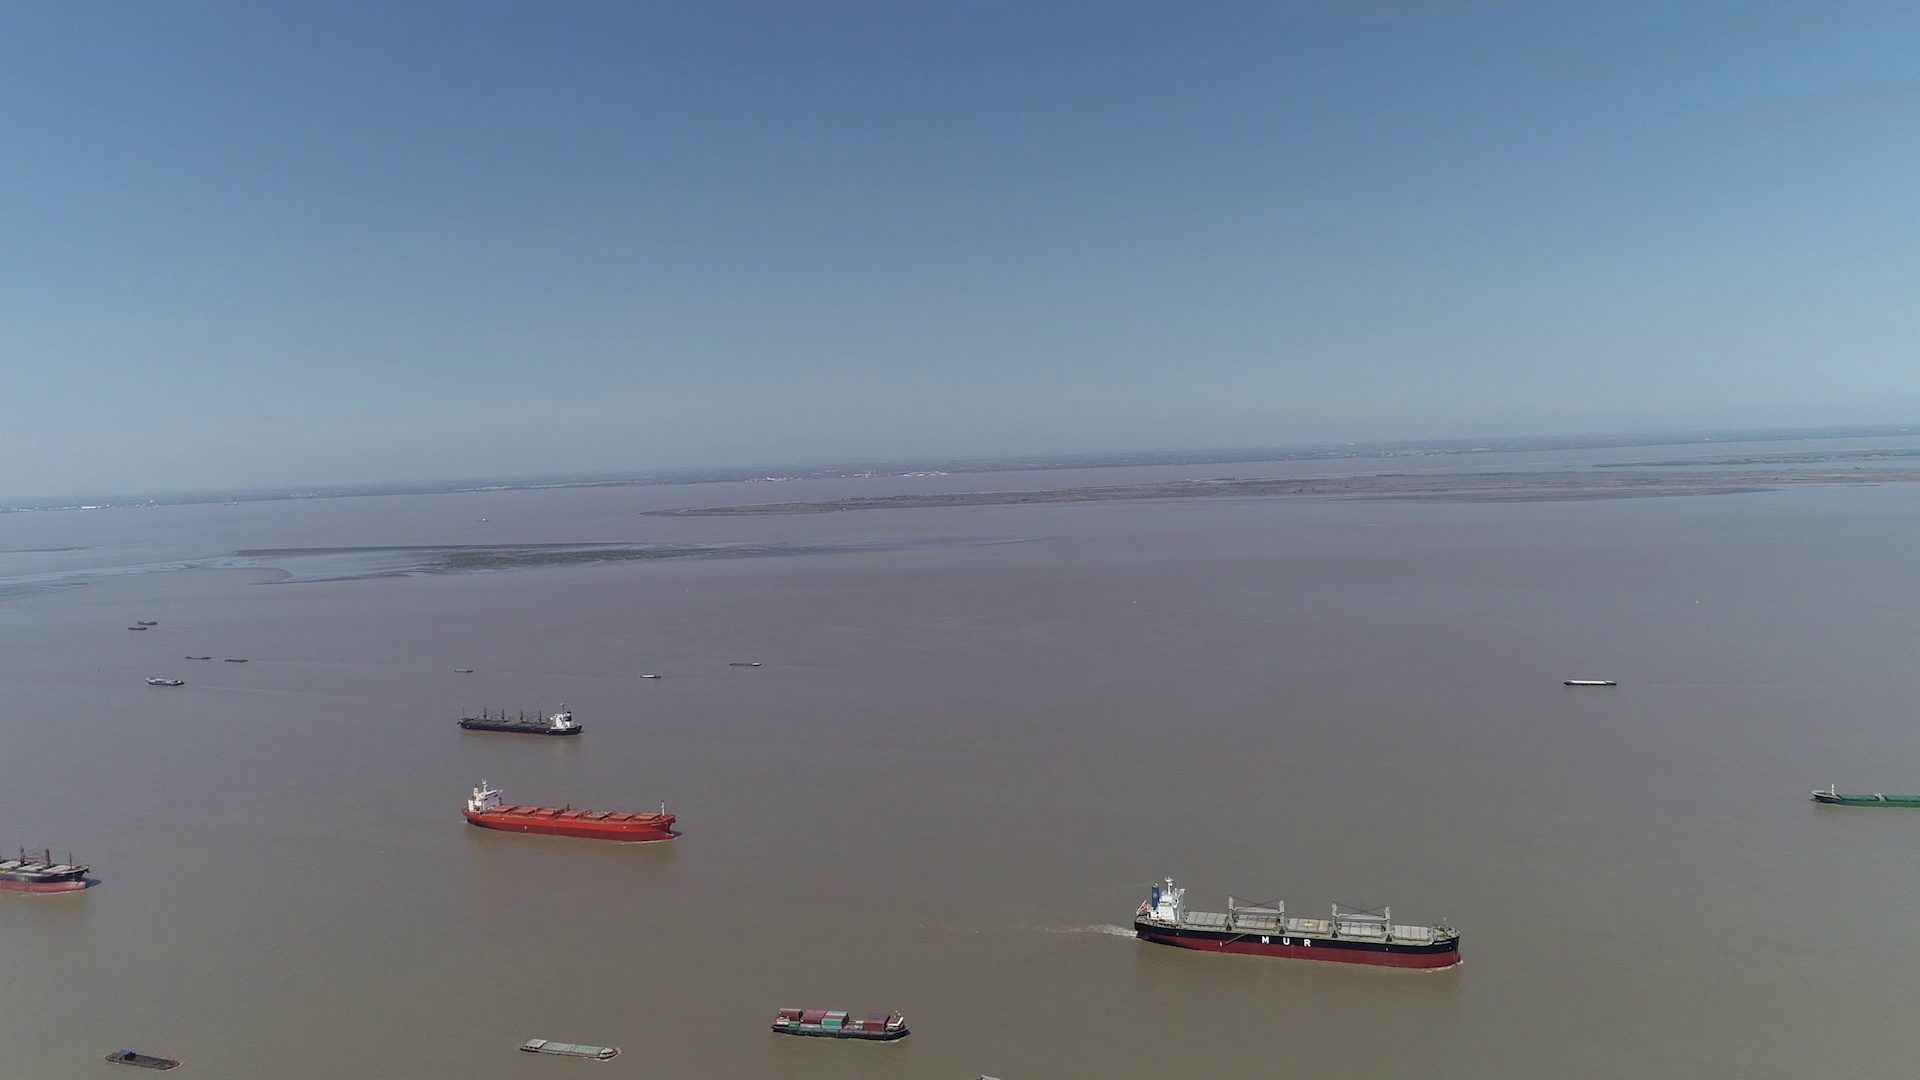ship: (1133, 877, 1462, 971), (465, 779, 679, 843), (0, 836, 92, 895), (773, 1005, 911, 1040), (459, 705, 582, 736), (520, 1036, 618, 1060), (1811, 787, 1920, 808), (105, 1048, 179, 1071), (1564, 678, 1615, 687), (146, 676, 185, 687)
